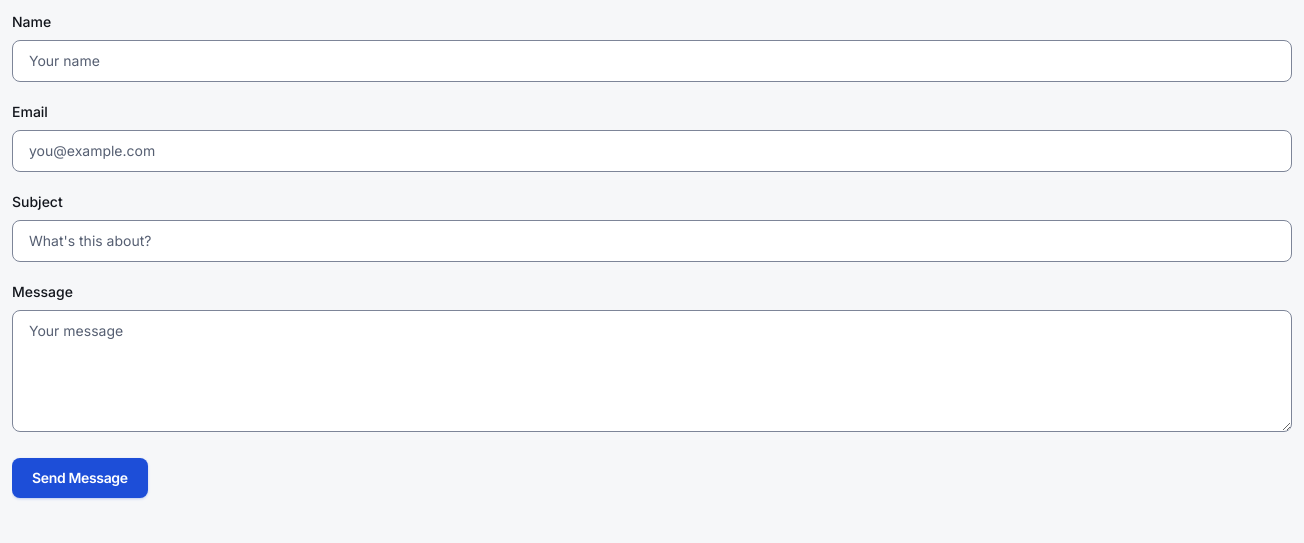
Test: ContactForm › flags a malformed email address specifically, distinct from a missing one
Type "Jordan Rivera" into the field labelled "Name".
click(652, 61); type("Jordan Rivera")  # box [12,40,1292,82]
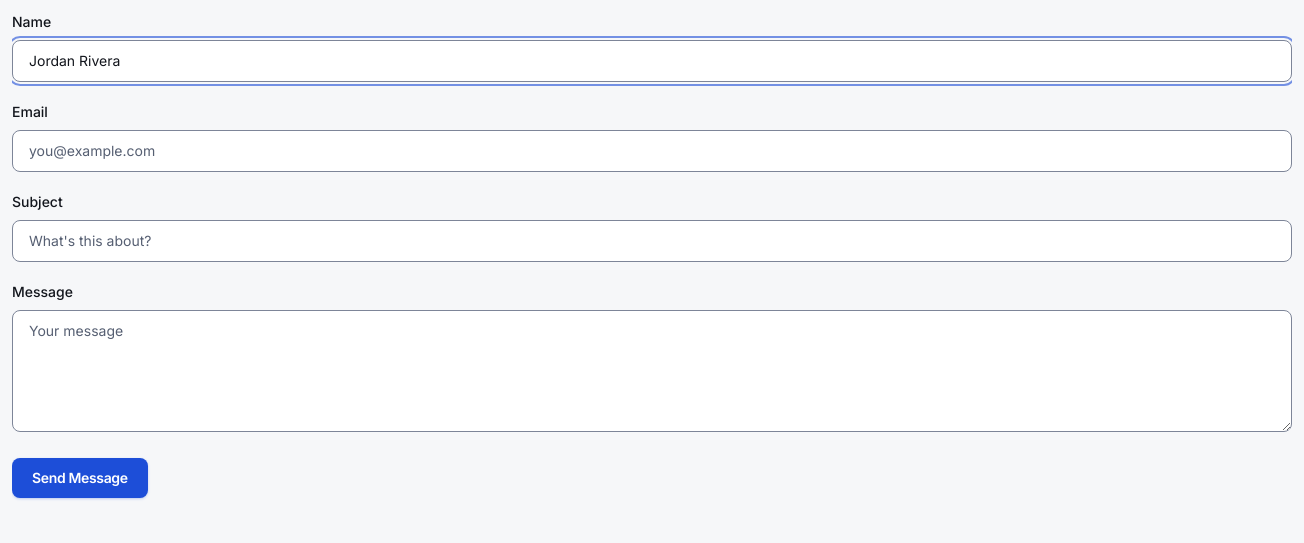
Type "not-an-email" into the field labelled "Email".
click(652, 151); type("not-an-email")  # box [12,130,1292,172]
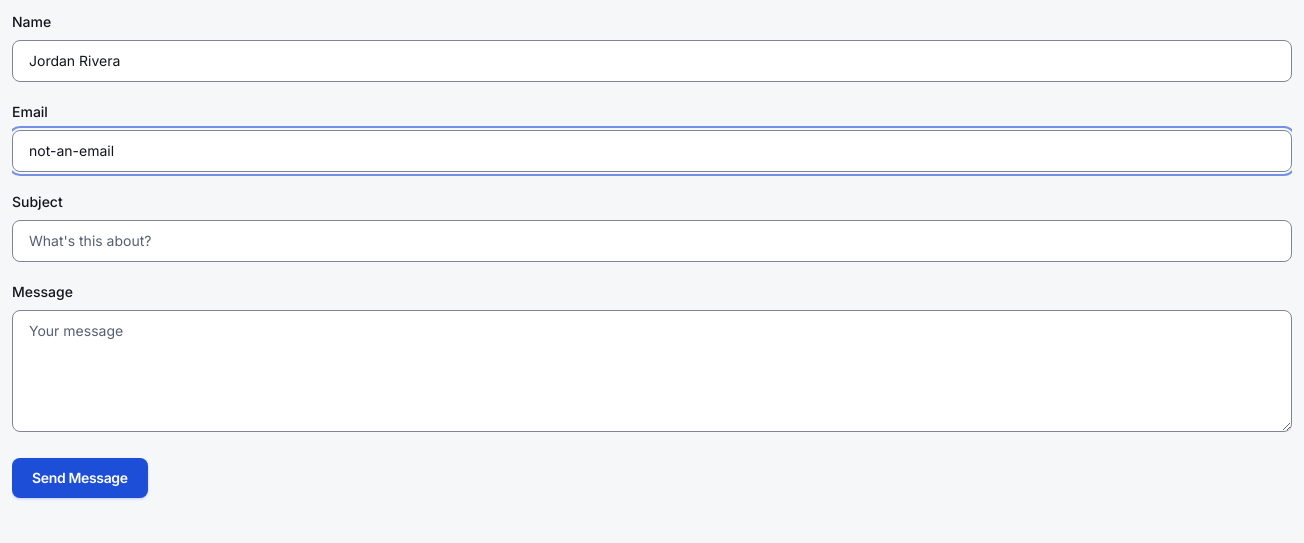
Type "Quick question" into the field labelled "Subject".
click(652, 241); type("Quick question")  # box [12,220,1292,262]
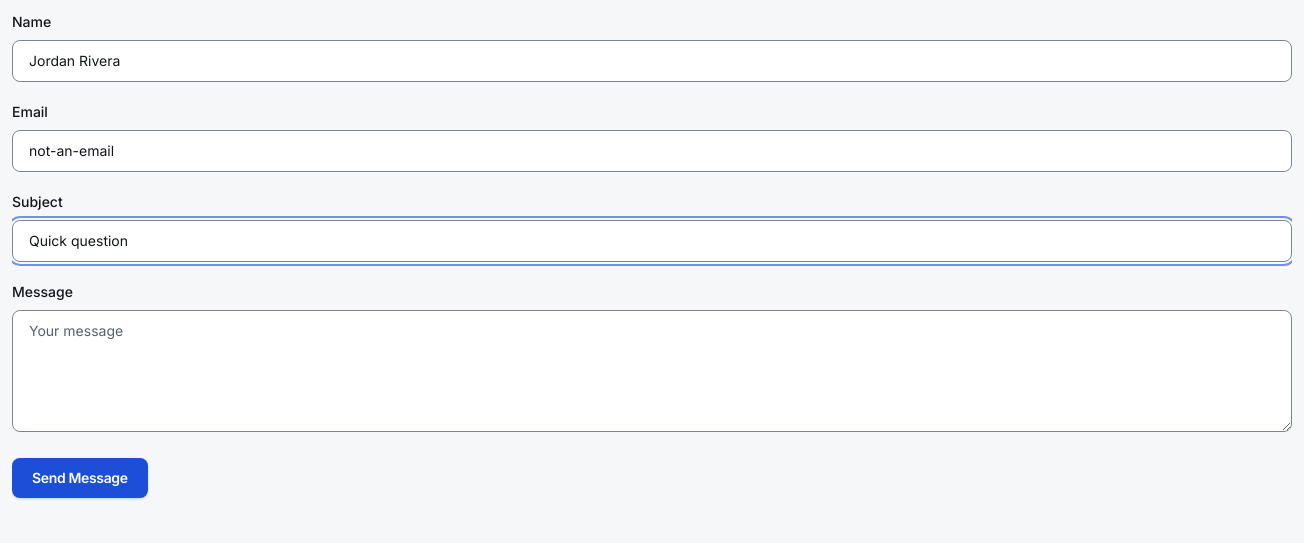
Type "Loved your SOC writeups!" into the text box labelled "Message".
click(652, 371); type("Loved your SOC writeups!")  # box [12,310,1292,432]
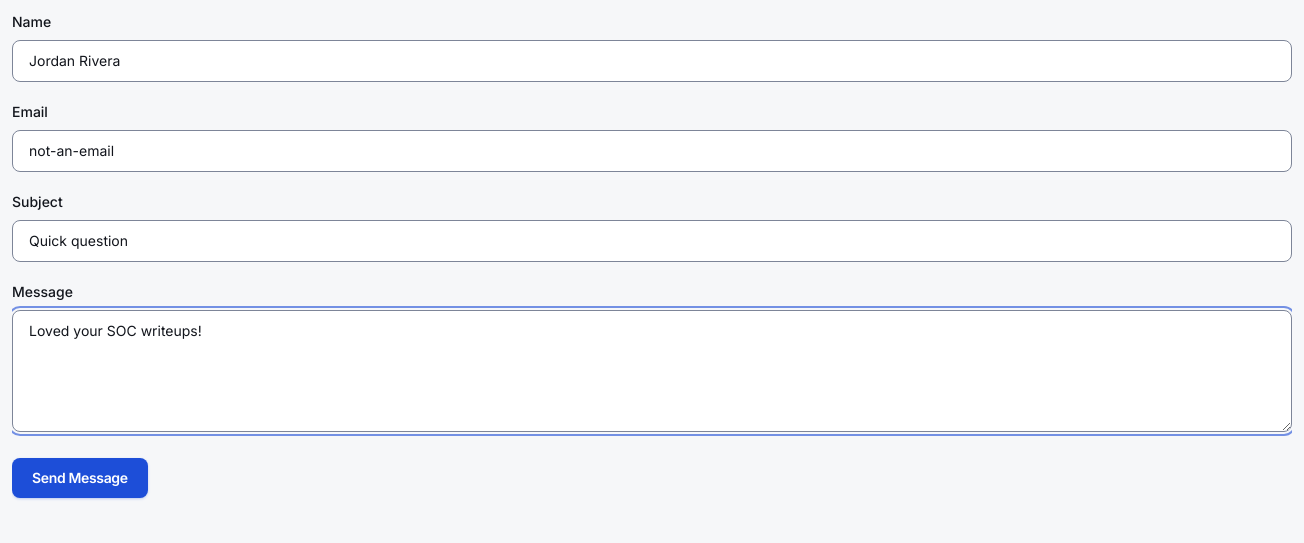
Click the button "Send Message".
click(80, 478)  # box [12,458,148,498]
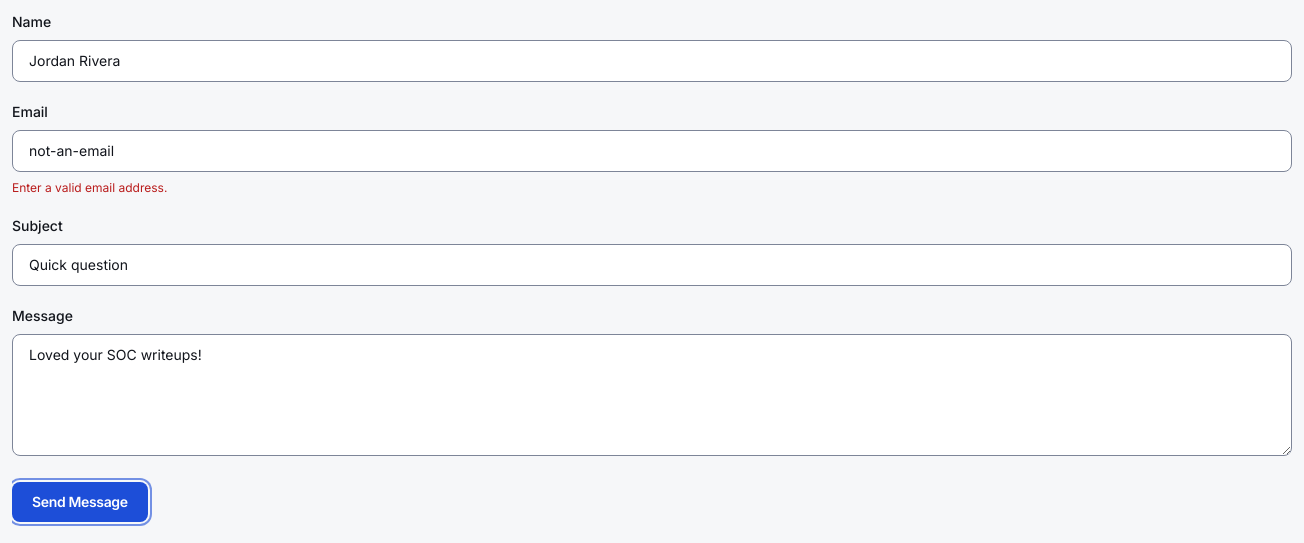
expect the text "Enter a valid email address." is shown: met, box [12,180,167,195]
